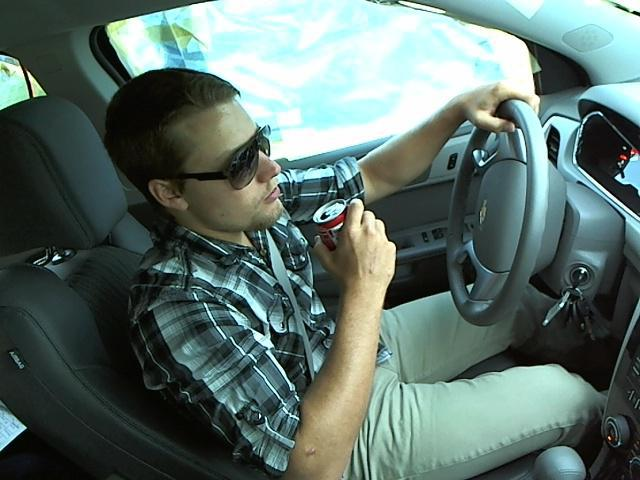c4 - Drinking: (83, 58, 556, 458)
